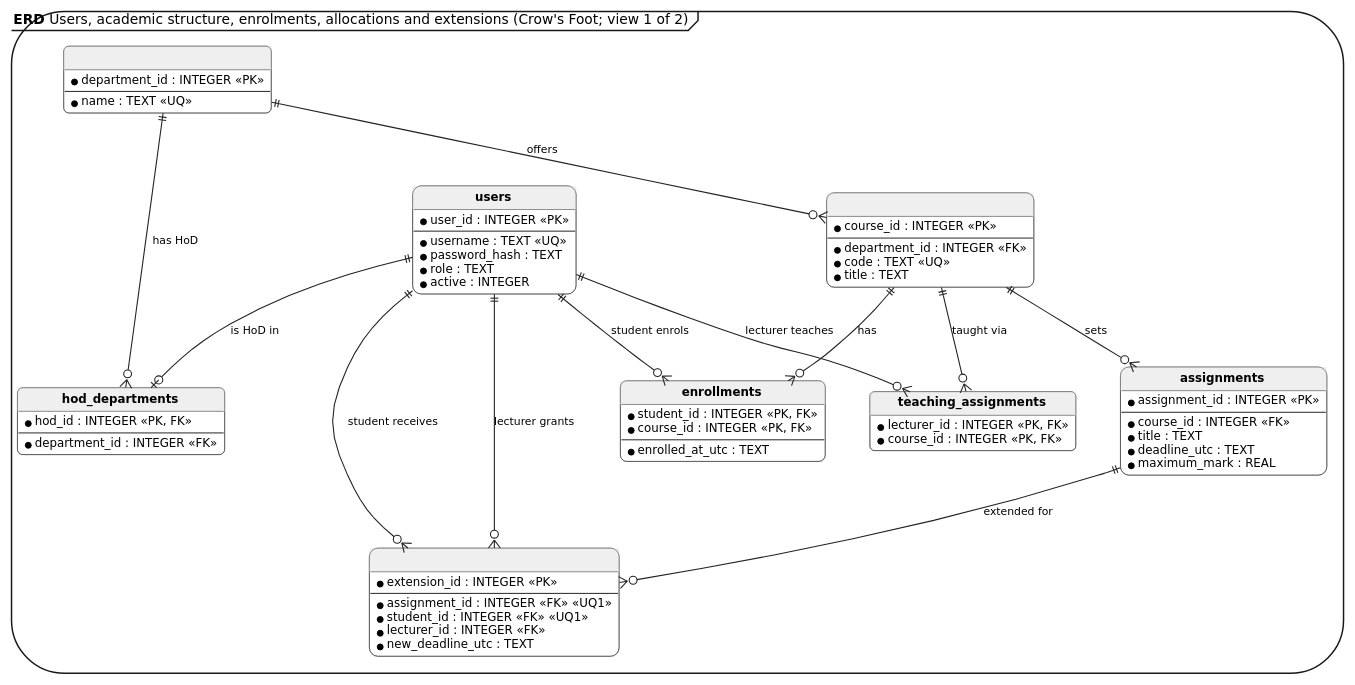
The diagram is 1355 pixels wide and 685 high, and some of its shapes have lost their labels. The shapes that lost their labels are listed below. From the top down, each one's centre as x and y in pixels, then its label:
the point at 167,58: departments
the point at 930,204: courses
the point at 494,560: deadline_extensions
